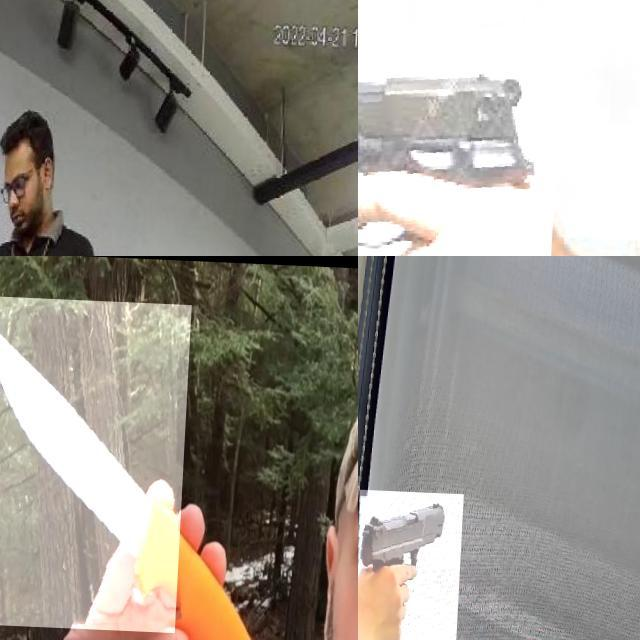-: (0, 295, 192, 630)
gun-knife-thesis - v11 Yolov5 augmented: (358, 13, 564, 256), (358, 487, 467, 640)
